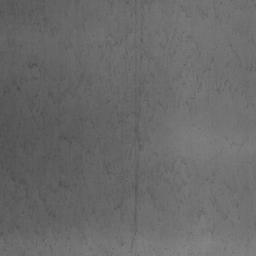Silk spot: (0, 0, 254, 256), (190, 181, 240, 235), (0, 0, 56, 36), (172, 2, 230, 24), (226, 44, 256, 71), (196, 170, 217, 184)
